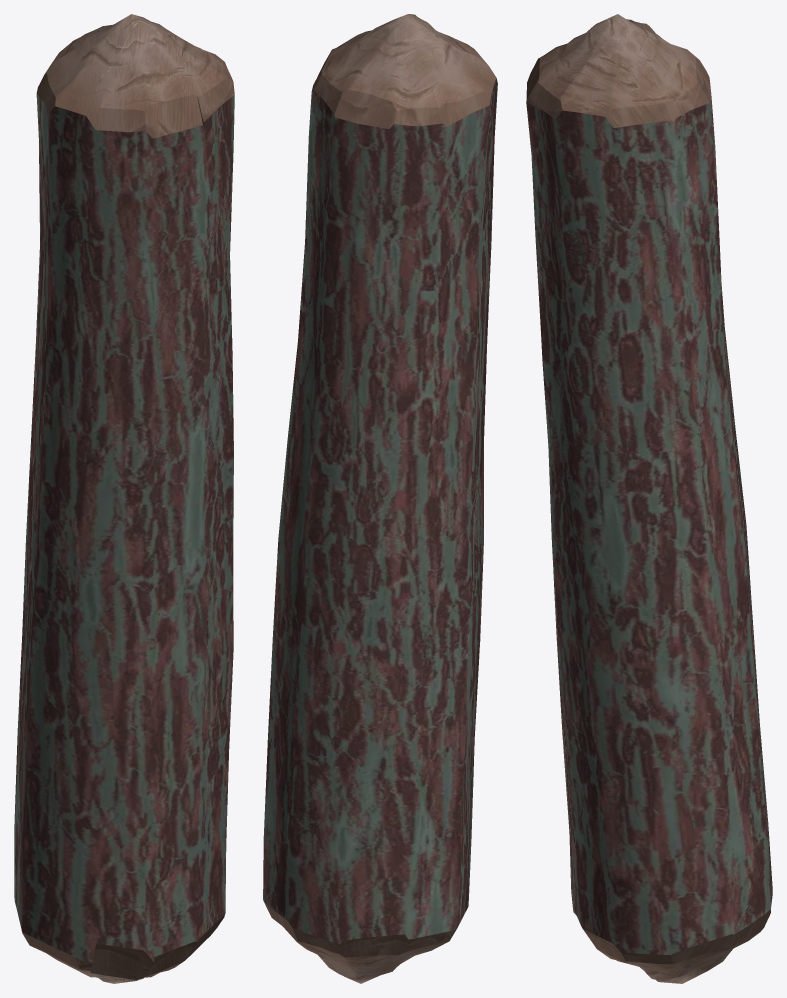
The picture shows the model from 3 angles, left to right: view 1: azimuth 30°, elevation 25°; view 2: azimuth 150°, elevation 25°; view 3: azimuth 270°, elevation 25°; orthographic projection. The views are drawn at different scales.
Visible parts, largest first — view 1: SM_MapleTree_02_quarter_02_LOD0; view 2: SM_MapleTree_02_quarter_02_LOD0; view 3: SM_MapleTree_02_quarter_02_LOD0.
Boxes of the visible parts, box(x1,y1,x2,y2) form: SM_MapleTree_02_quarter_02_LOD0: box(14, 14, 234, 983); SM_MapleTree_02_quarter_02_LOD0: box(263, 14, 497, 983); SM_MapleTree_02_quarter_02_LOD0: box(526, 14, 772, 983).
Bounding box in the file's own units: 0.5339 × 2.61 × 0.6052.
Materials: 1 (1 with a texture image).
